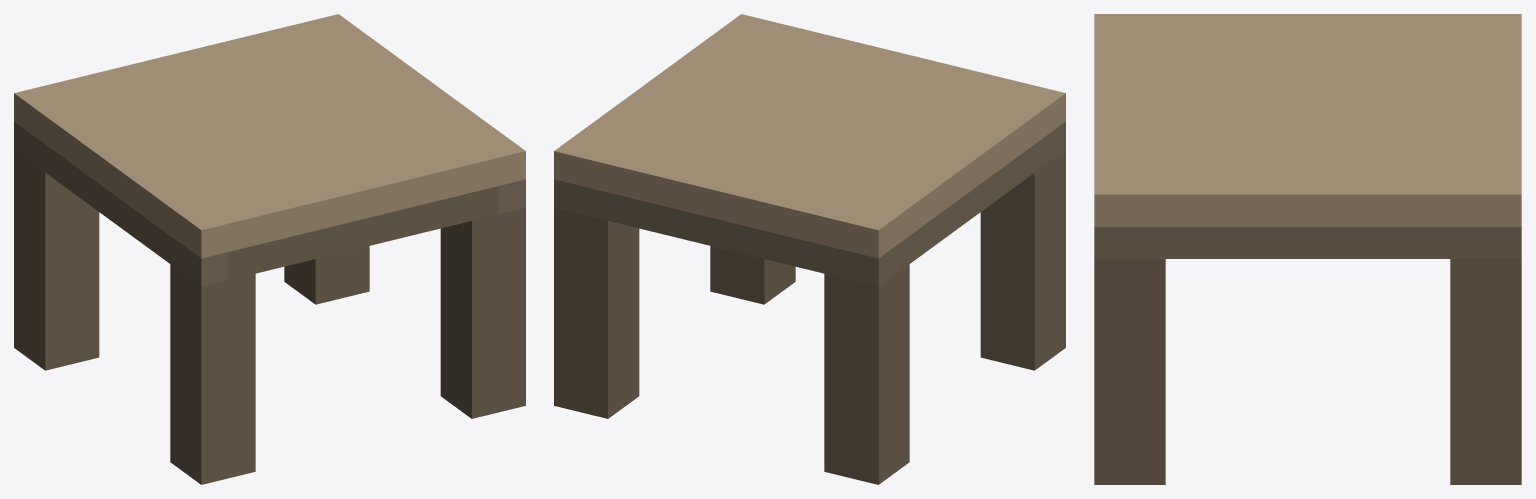
Rendered from mesa_corte_piel_desgastada_01.glb.
The picture shows the model from 3 angles, left to right: view 1: azimuth 30°, elevation 25°; view 2: azimuth 150°, elevation 25°; view 3: azimuth 270°, elevation 25°; orthographic projection. The views are drawn at different scales.
Visible parts, largest first — view 1: mesa_corte_piel_desgastada; view 2: mesa_corte_piel_desgastada; view 3: mesa_corte_piel_desgastada.
Boxes of the visible parts, bbox=[...] form: mesa_corte_piel_desgastada: bbox=[14, 14, 525, 484]; mesa_corte_piel_desgastada: bbox=[554, 14, 1065, 484]; mesa_corte_piel_desgastada: bbox=[1094, 14, 1521, 484].
Bounding box in the file's own units: 1 × 0.75 × 1.
